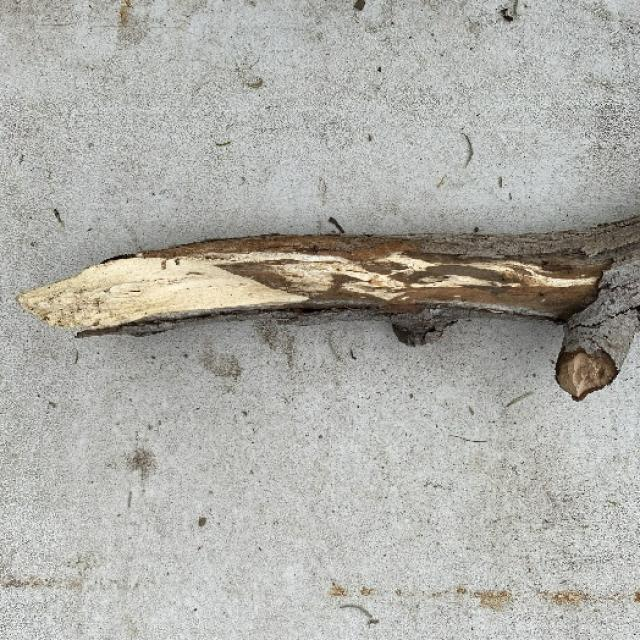organic: (384, 250, 596, 312)
